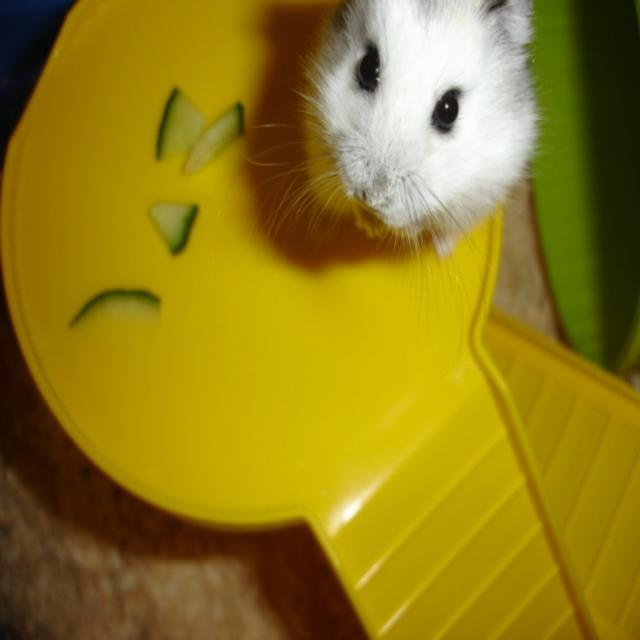rat: (217, 0, 547, 375)
